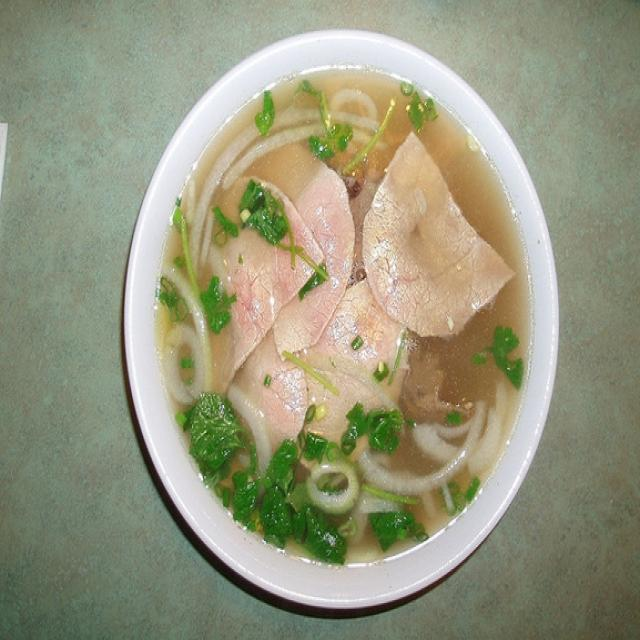面条主食: (81, 31, 563, 597)
